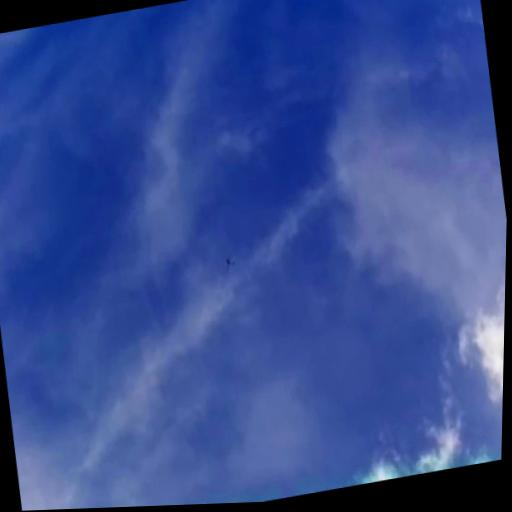drones: (220, 249, 241, 280)
